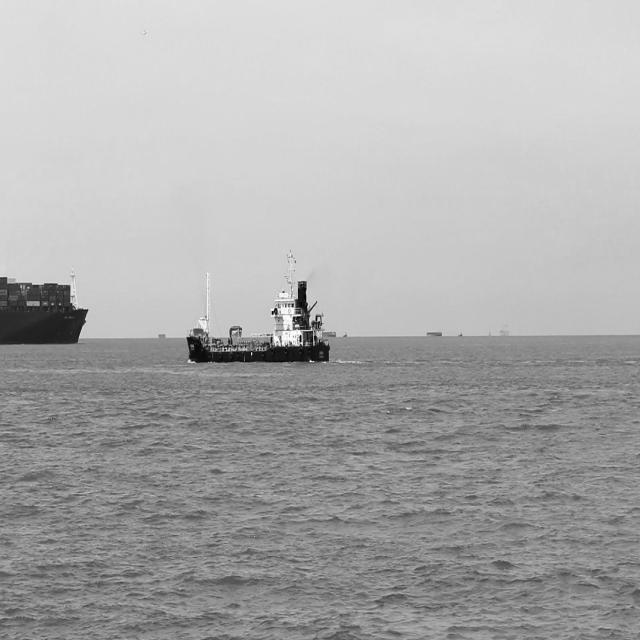ship: (182, 246, 334, 368), (0, 259, 91, 350), (424, 323, 442, 341), (500, 319, 515, 339), (156, 326, 170, 344)
